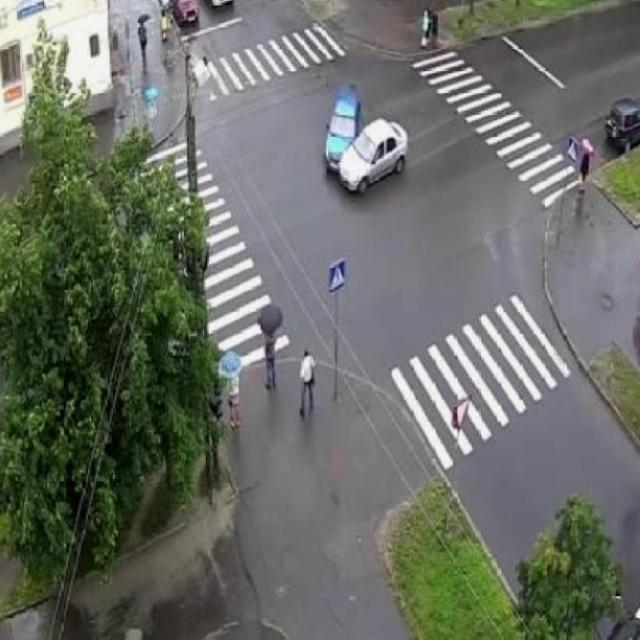accident: (323, 85, 410, 196)
